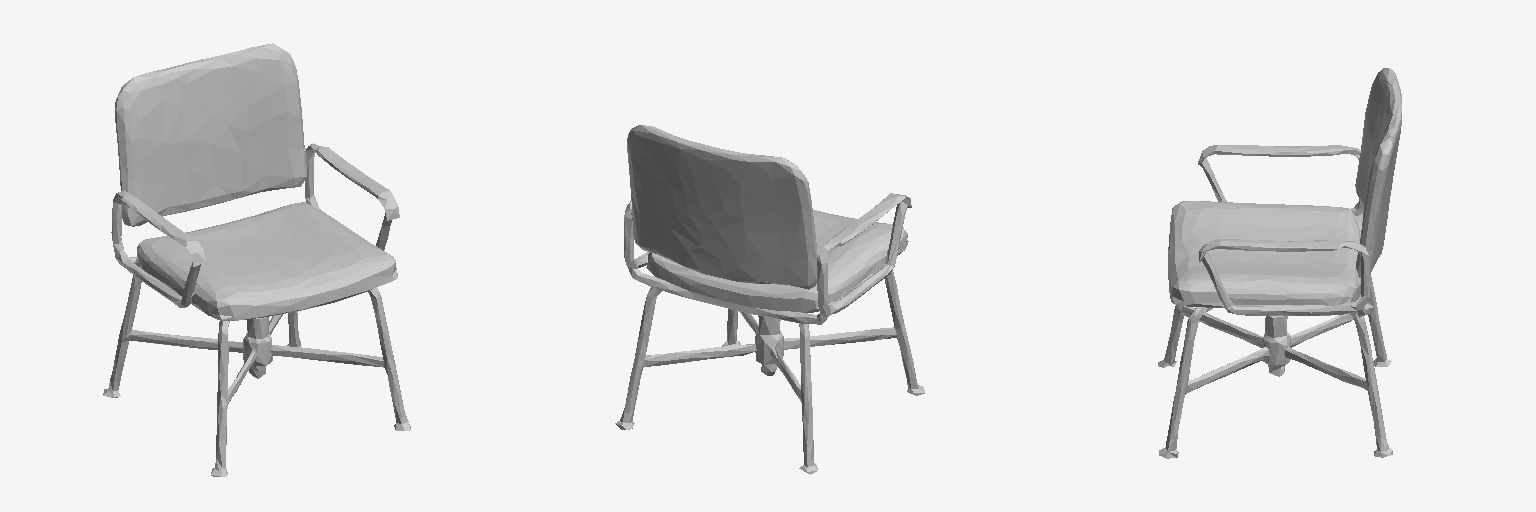
The model's file is chair.obj.
The picture shows the model from 3 angles: view 1: azimuth 30°, elevation 25°; view 2: azimuth 150°, elevation 25°; view 3: azimuth 270°, elevation 25°; orthographic projection.
Visible parts, largest first — view 1: Worn_industrial_metal_[number redacted]_texture; view 2: Worn_industrial_metal_[number redacted]_texture; view 3: Worn_industrial_metal_[number redacted]_texture.
Boxes of the visible parts, x1=… form: Worn_industrial_metal_[number redacted]_texture: x1=103, y1=43, x2=410, y2=476; Worn_industrial_metal_[number redacted]_texture: x1=615, y1=125, x2=924, y2=474; Worn_industrial_metal_[number redacted]_texture: x1=1158, y1=68, x2=1401, y2=458.
Size of the model in its own units: 1.43 by 2.01 by 1.44.